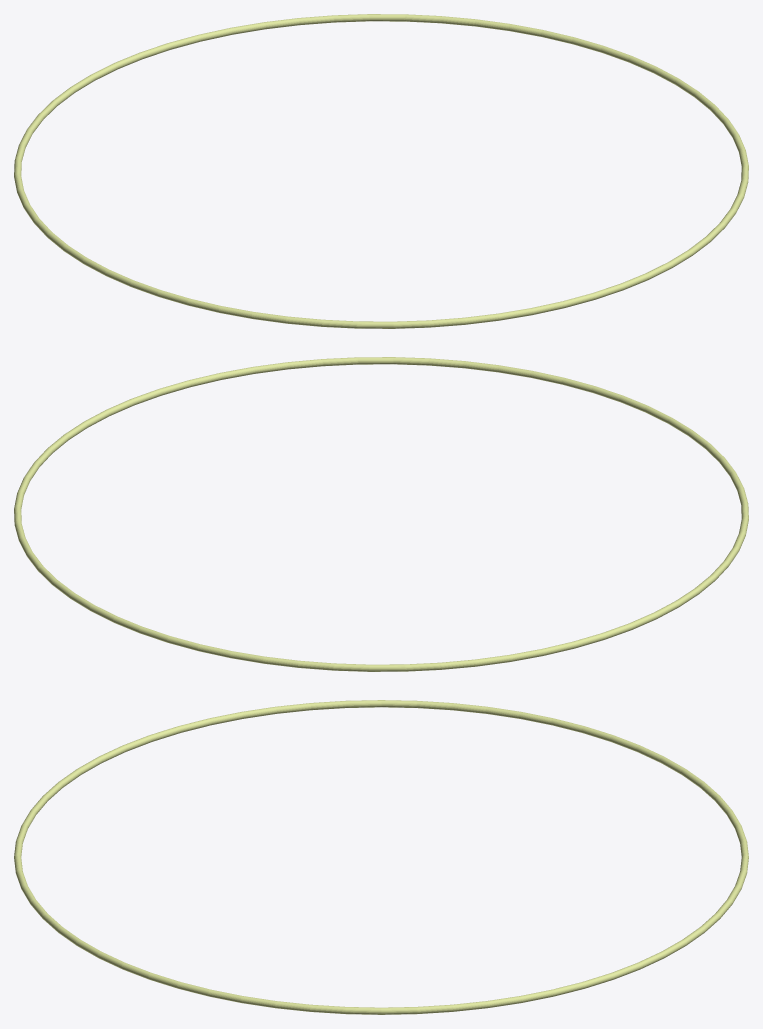
File: Ring3.fbx
The picture shows the model from 3 angles, top to bottom: view 1: azimuth 30°, elevation 25°; view 2: azimuth 150°, elevation 25°; view 3: azimuth 270°, elevation 25°; orthographic projection.
Parts seen in each view (by area): view 1: Ring3; view 2: Ring3; view 3: Ring3.
Part boxes in pixels (x1,y1,x2,y2): Ring3: (14,14,748,328); Ring3: (14,357,748,671); Ring3: (14,700,748,1014).
Bounding box in the file's own units: 10100 × 100 × 10100.
